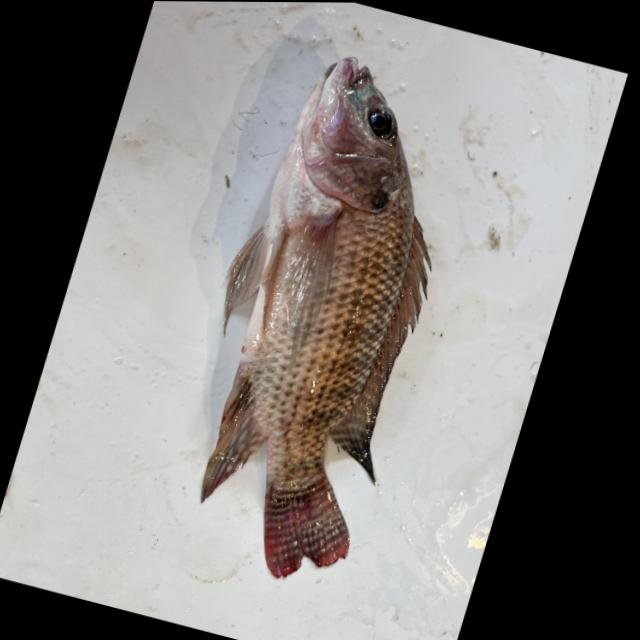Tilapia: (143, 40, 500, 597)
